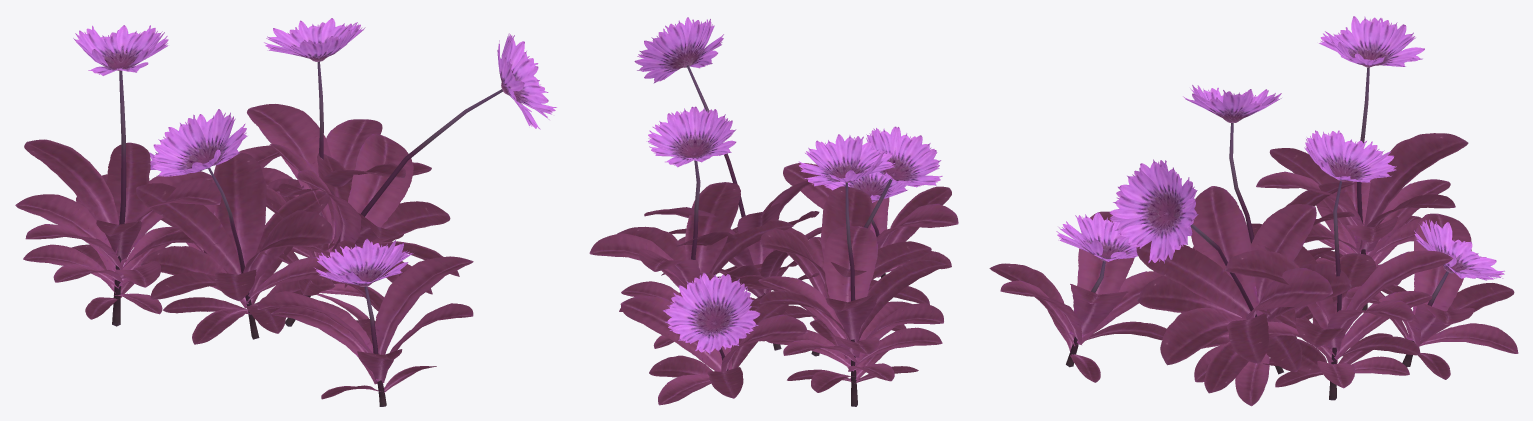
3 renders of one model, left to right at view 1: azimuth 30°, elevation 25°; view 2: azimuth 150°, elevation 25°; view 3: azimuth 270°, elevation 25°, orthographic. The views are drawn at different scales.
Parts seen in each view (by area): view 1: SM_GF_Gazania_02_LOD0; view 2: SM_GF_Gazania_02_LOD0; view 3: SM_GF_Gazania_02_LOD0.
Boxes of the visible parts, x1,y1,x2,y2 form: SM_GF_Gazania_02_LOD0: (15, 18, 556, 406); SM_GF_Gazania_02_LOD0: (589, 17, 958, 406); SM_GF_Gazania_02_LOD0: (989, 16, 1518, 406).
Size of the model in its own units: 0.5205 by 0.3373 by 0.5607.
1 material, 1 textured.
